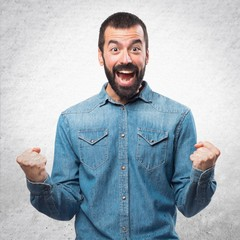young: (88, 13, 153, 99)
